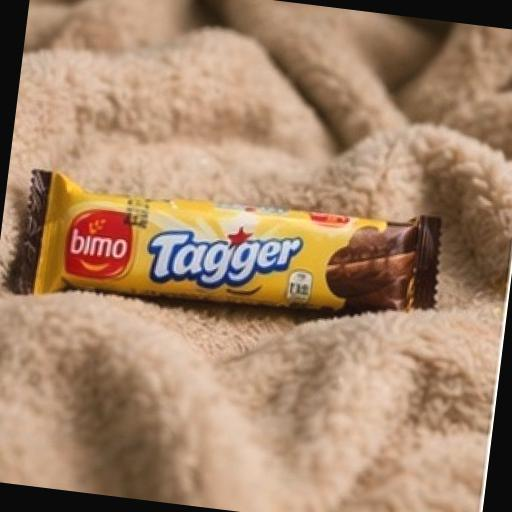tagger: (0, 96, 505, 462)
